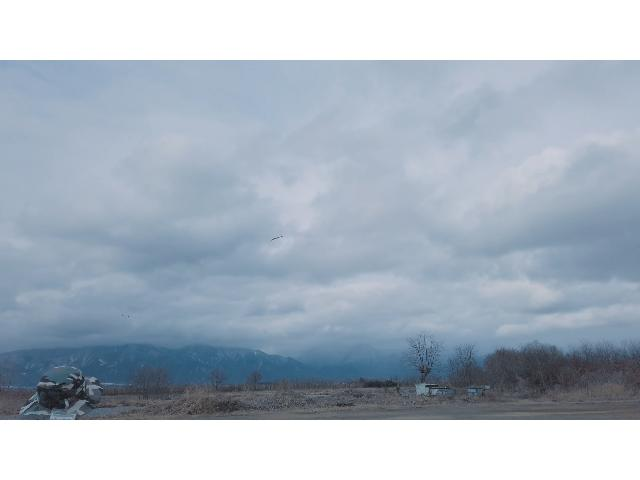Anti-Drone: (268, 233, 286, 243)
